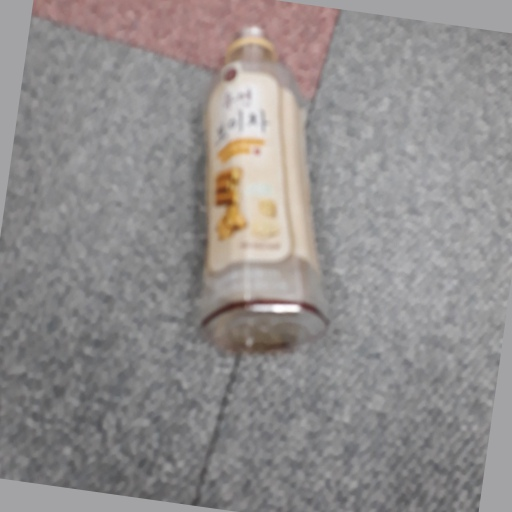Plastic_0: (197, 24, 328, 349)
